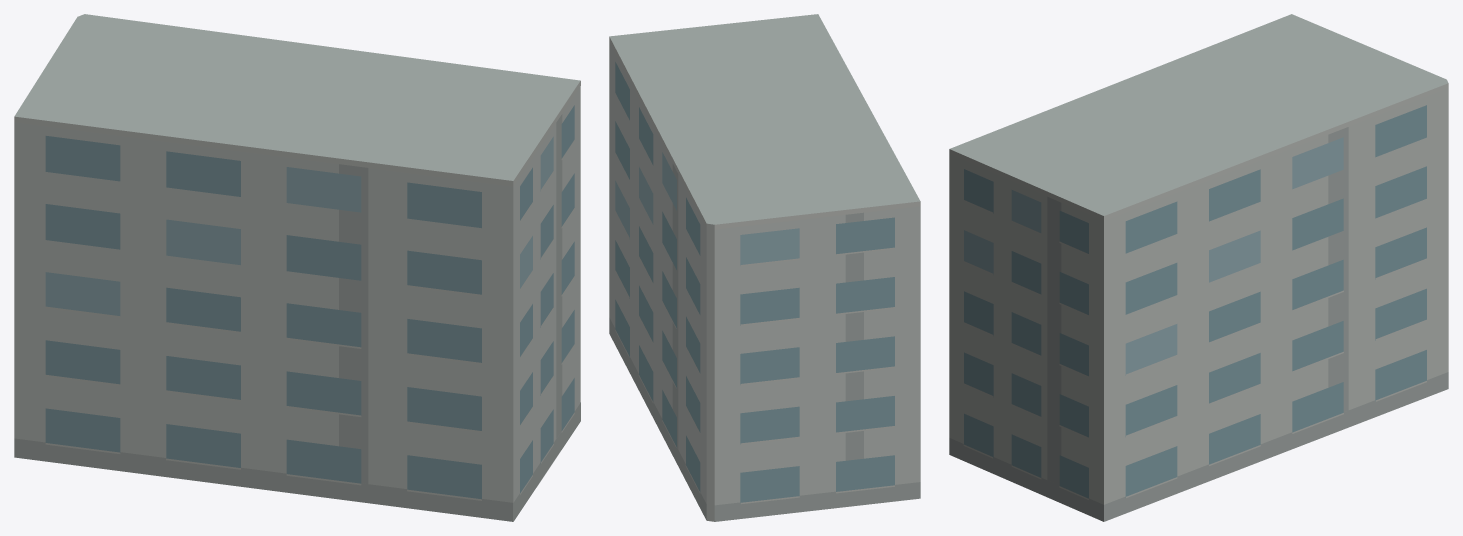
The model's file is survey-upis-32888628.glb.
3 renders of one model, left to right at view 1: azimuth 30°, elevation 25°; view 2: azimuth 150°, elevation 25°; view 3: azimuth 270°, elevation 25°, orthographic. The views are drawn at different scales.
Visible parts, largest first — view 1: survey-upis-32888628.tmp; view 2: survey-upis-32888628.tmp; view 3: survey-upis-32888628.tmp.
Boxes of the visible parts, left/top/right/bottom form: survey-upis-32888628.tmp: left=14, top=14, right=580, bottom=521; survey-upis-32888628.tmp: left=609, top=14, right=920, bottom=521; survey-upis-32888628.tmp: left=949, top=14, right=1448, bottom=521.
Bounding box in the file's own units: 20.96 × 14.78 × 21.88.
